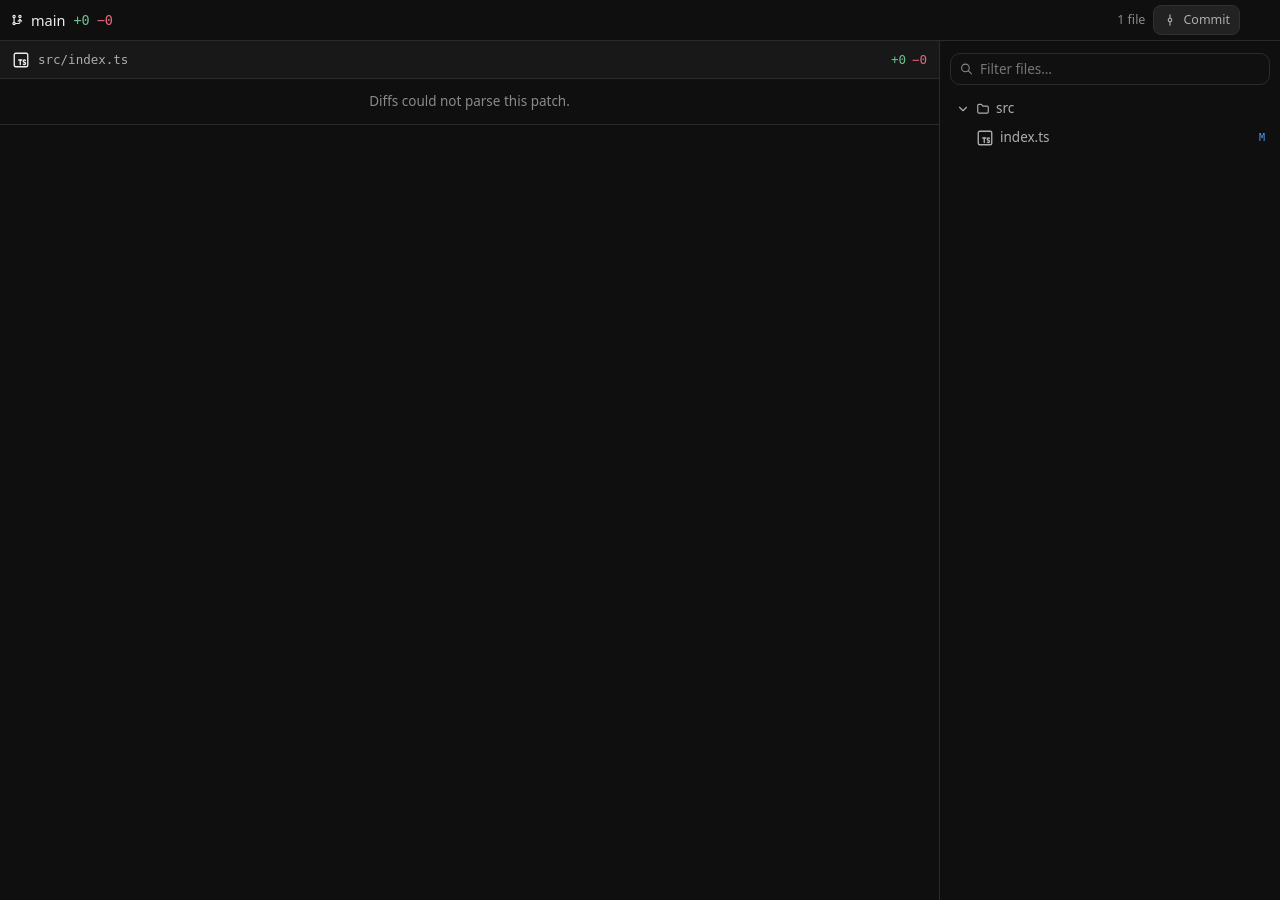
Scenario: WorkspaceReview › drafts a commit message through the configured background model
Check: the text "src/index.ts" is shown, box [38, 50, 128, 69]
Step 1. Click the button with aria-label "Commit changes" → x=1197, y=20, box [1153, 5, 1240, 35]
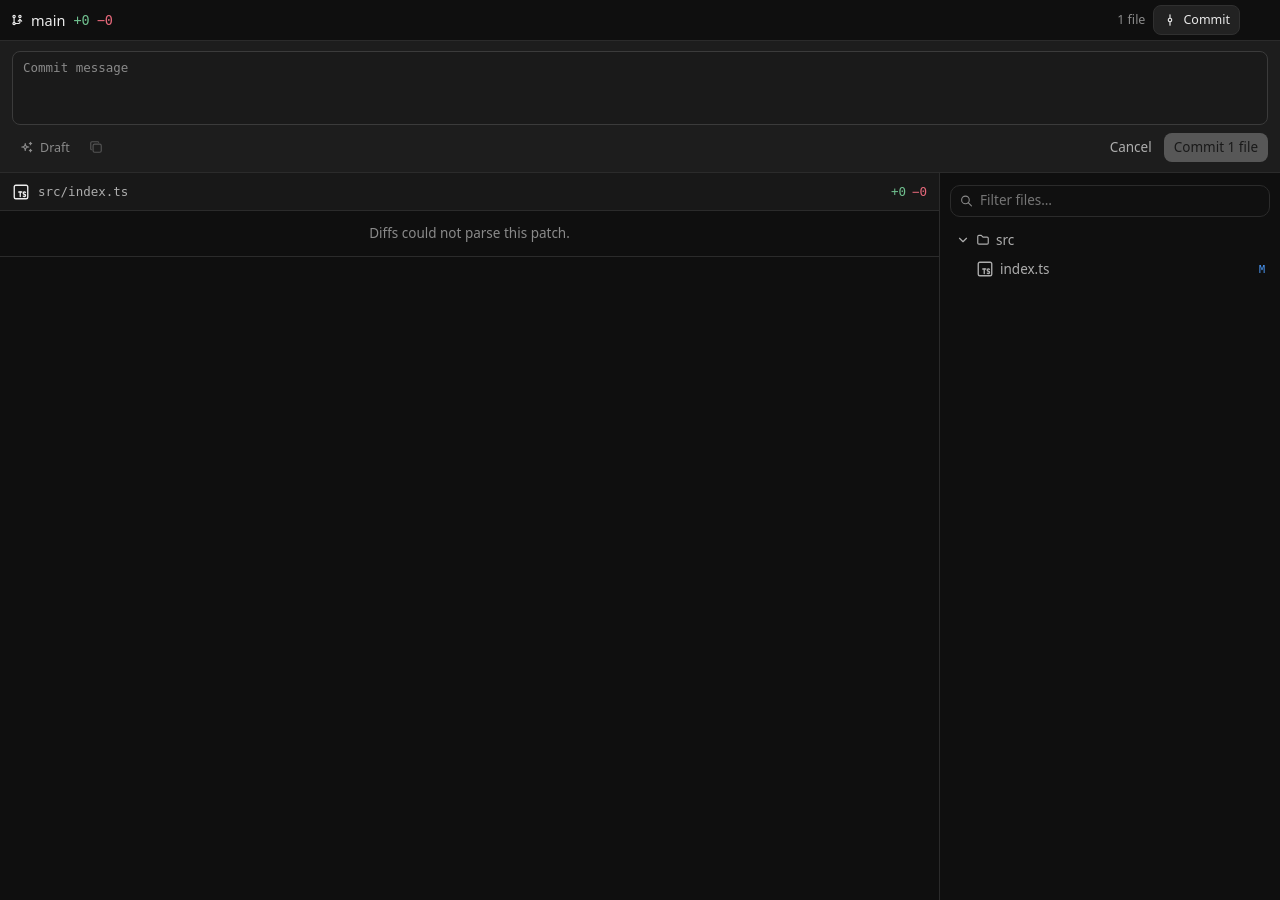
Step 2. Click the button with aria-label "Draft commit message" → x=45, y=148, box [12, 134, 78, 162]
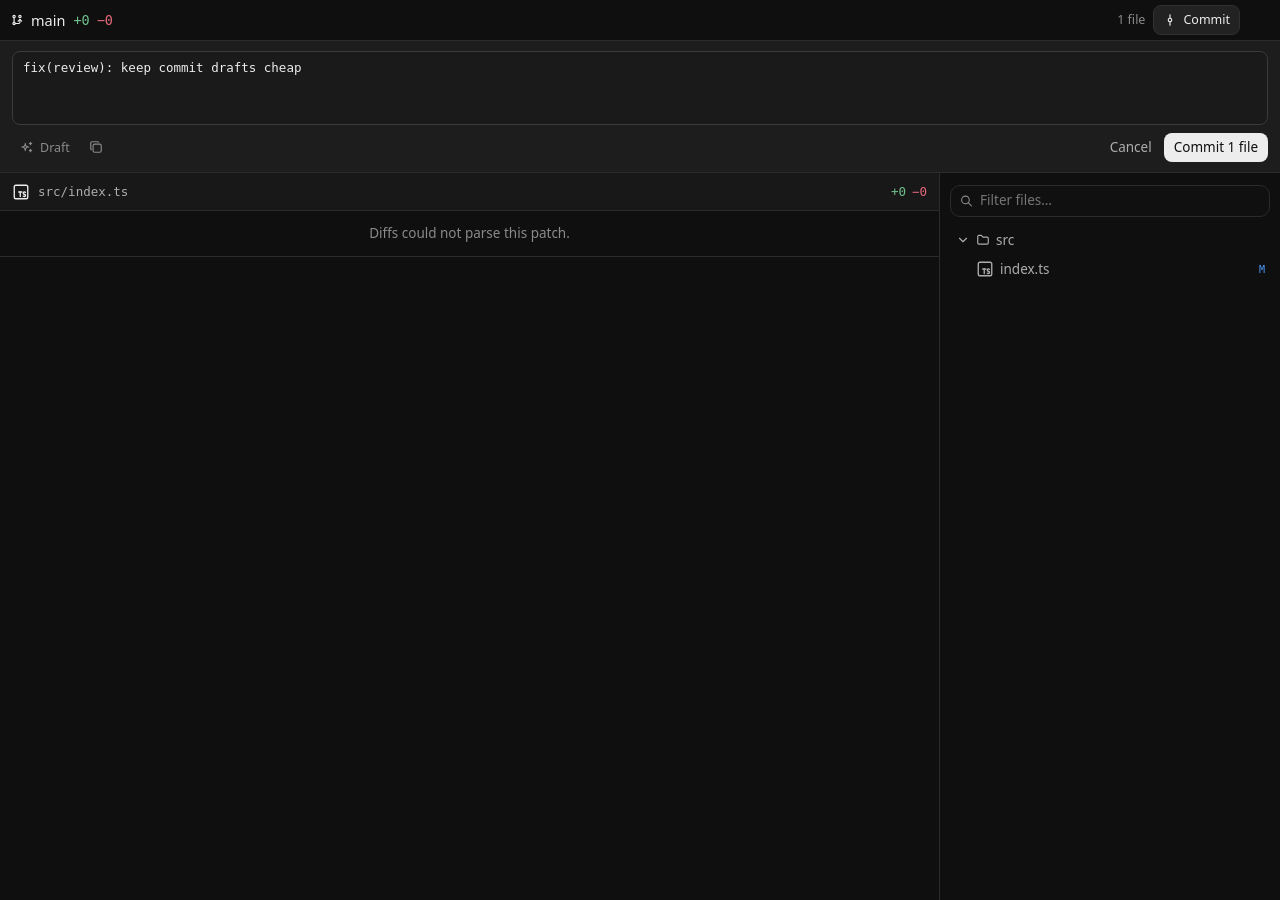
Check: the text box showing "fix(review): keep commit drafts cheap" is shown, box [12, 51, 1268, 125]
